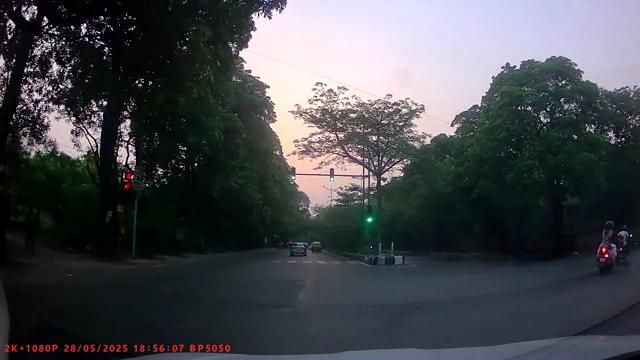passenger_with_helmet: (595, 221, 619, 273)
